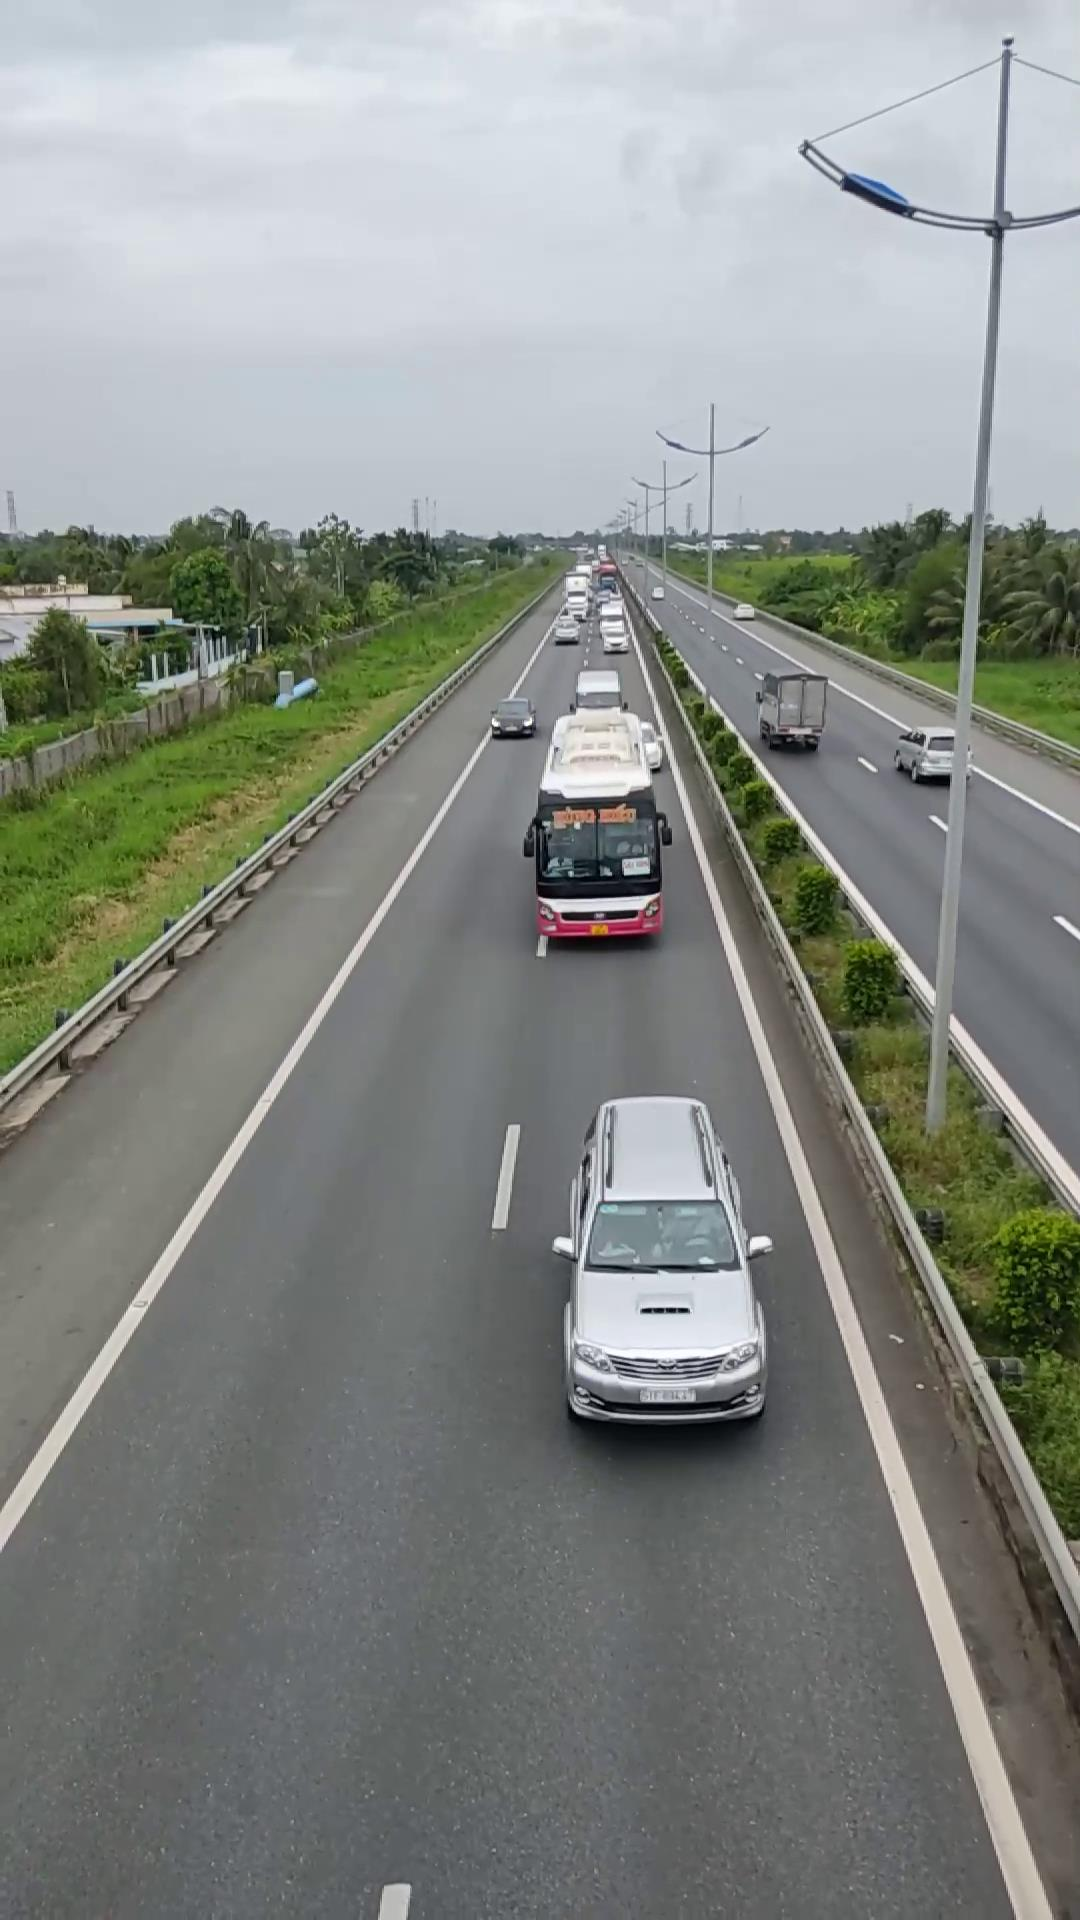bus: (524, 709, 670, 943)
car: (554, 1091, 773, 1427)
truck: (754, 663, 828, 750)
